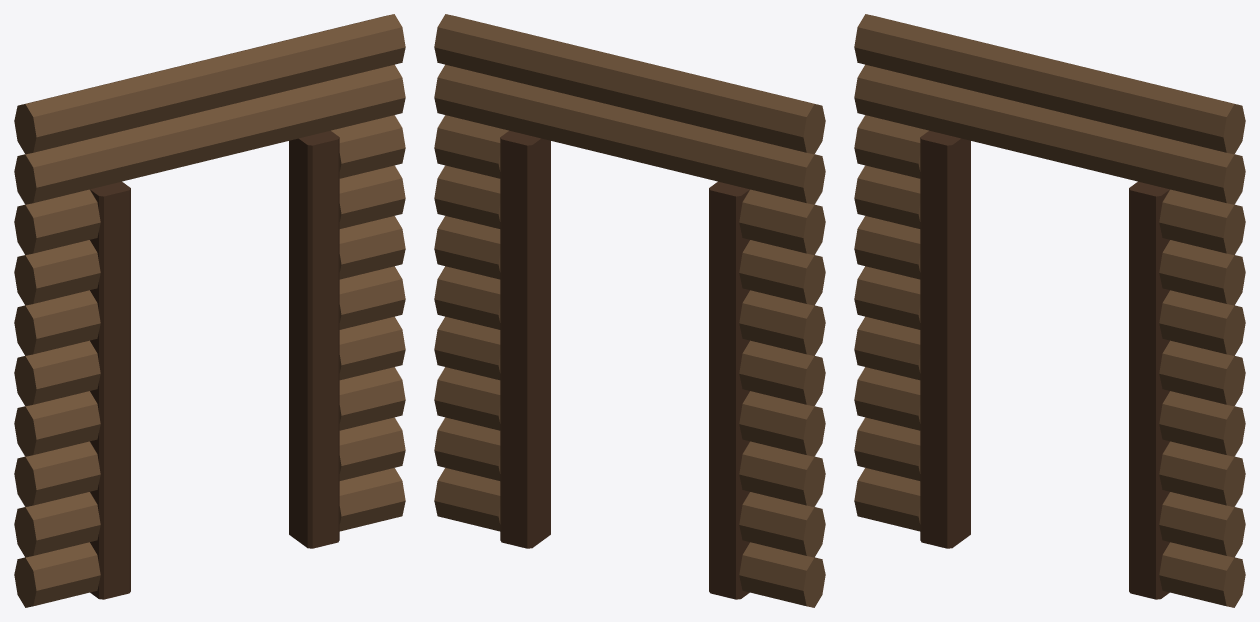
File: wall_log_door_lod0.glb
3 views of the same model, side by side, from view 1: azimuth 30°, elevation 25°; view 2: azimuth 150°, elevation 25°; view 3: azimuth 330°, elevation 25° (orthographic).
Visible parts, largest first — view 1: wall_log_door; view 2: wall_log_door; view 3: wall_log_door.
Part boxes in pixels (<box>): wall_log_door: <box>14,14,405,607</box>; wall_log_door: <box>434,14,825,607</box>; wall_log_door: <box>854,14,1245,607</box>.
Size of the model in its own units: 2.3 by 3 by 0.24.
